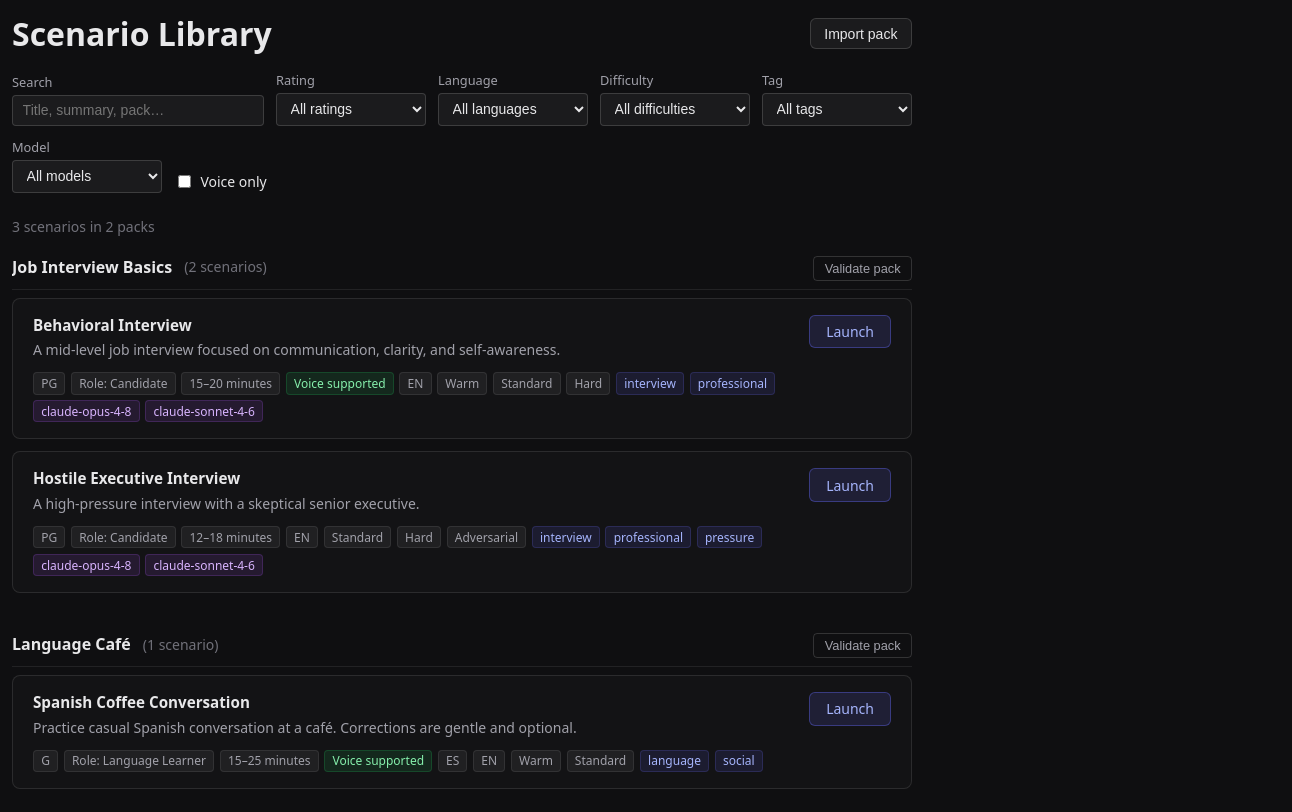
Test: search › typing in search filters scenarios by title
Expected: the heading "Behavioral Interview" is shown, [33,315,192,335]
Type "Spanish" into the search field named "search scenarios" at (138,110), box [12,95,264,126]
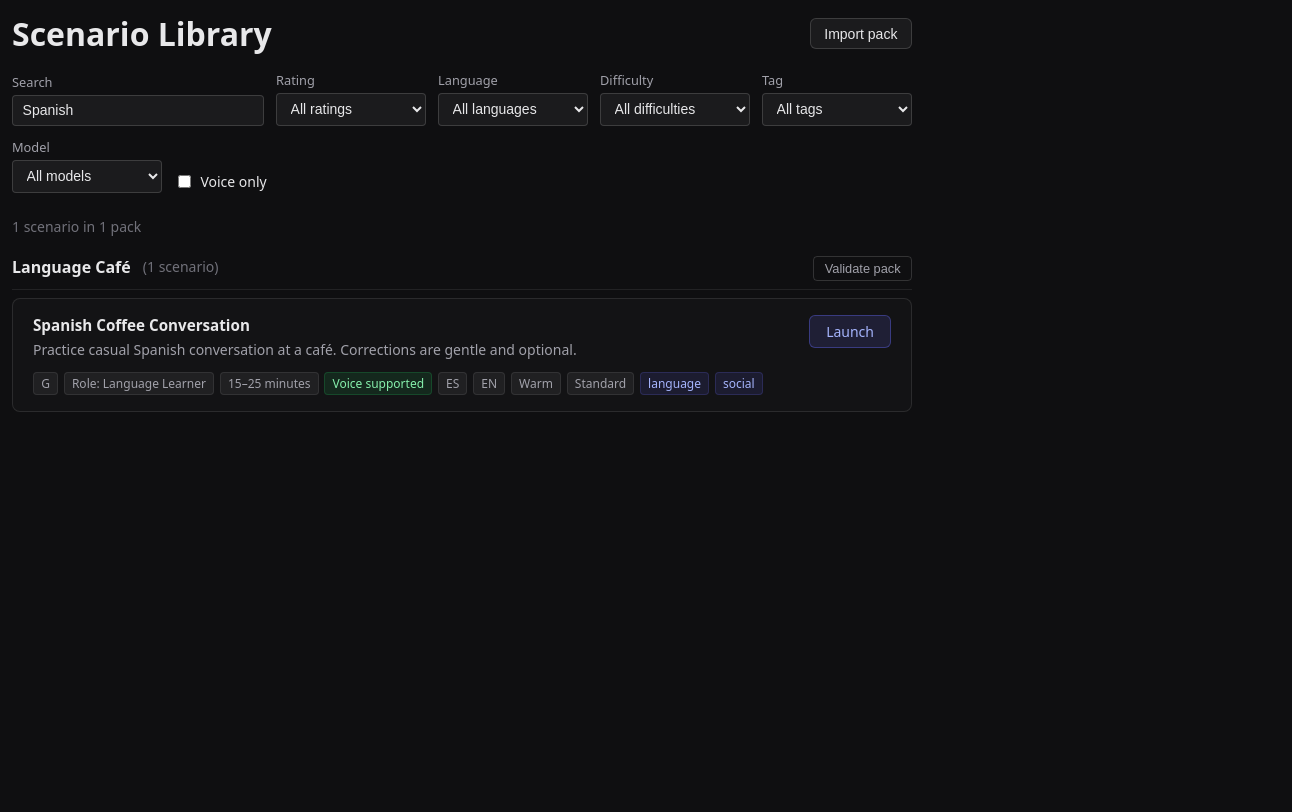
Expected: the heading "Spanish Coffee Conversation" is shown, [33,315,250,335]
Expected: the heading "Behavioral Interview" is gone
